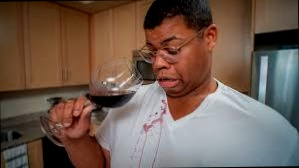wine: (134, 118, 155, 136), (132, 139, 144, 167), (153, 138, 162, 166), (149, 102, 165, 117), (156, 116, 165, 135)
